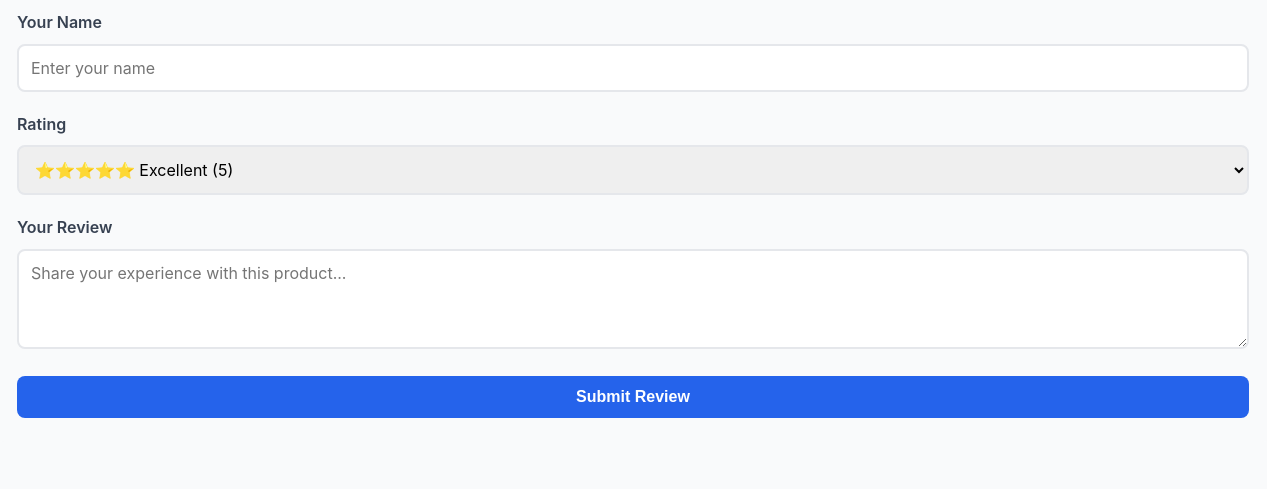
it: ReviewForm › shows validation error when name is empty
The width and height of the screenshot is (1267, 489).
Click the button "Submit Review". click: (633, 397)
box: x1=17 y1=376 x2=1249 y2=418
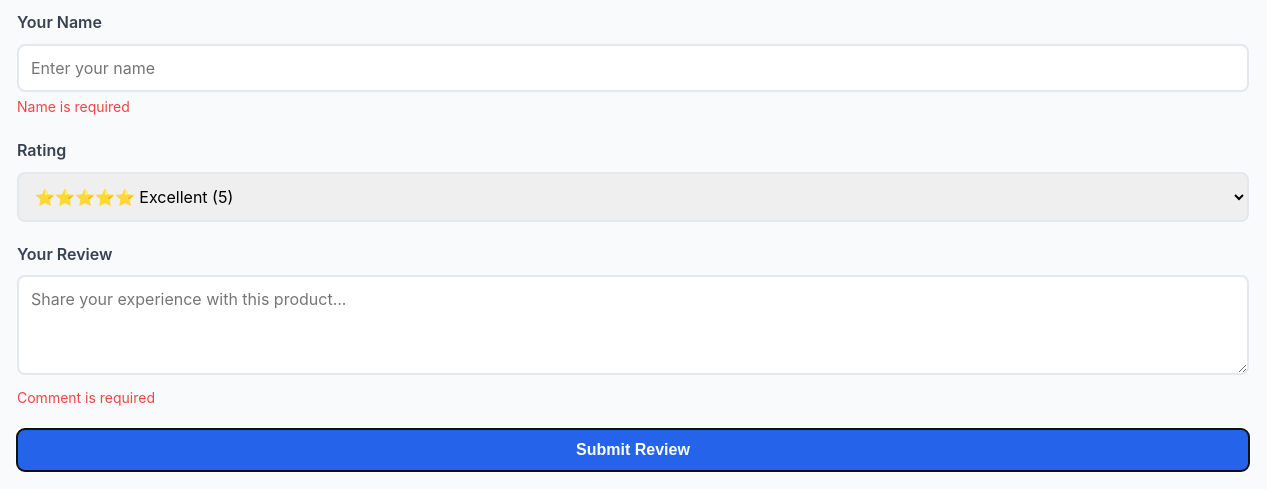
Expected: the text "Name is required" is shown, x1=17 y1=98 x2=130 y2=115
